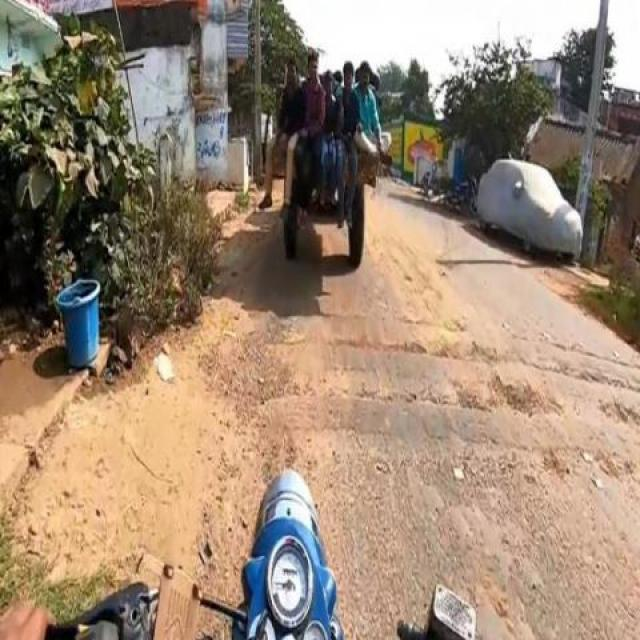Manhole: (439, 256, 540, 274)
Unmarked Bump: (257, 393, 639, 452), (276, 312, 640, 368), (264, 340, 640, 393)
